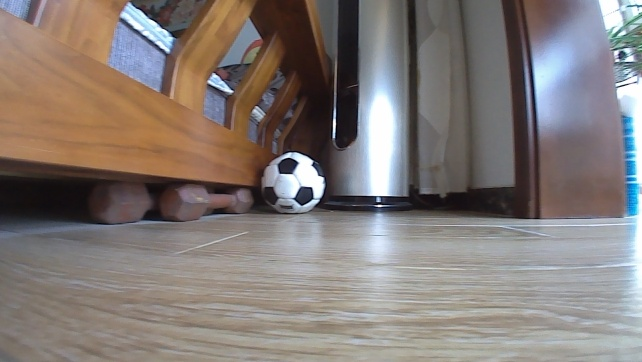sofa1: (0, 0, 333, 212)
